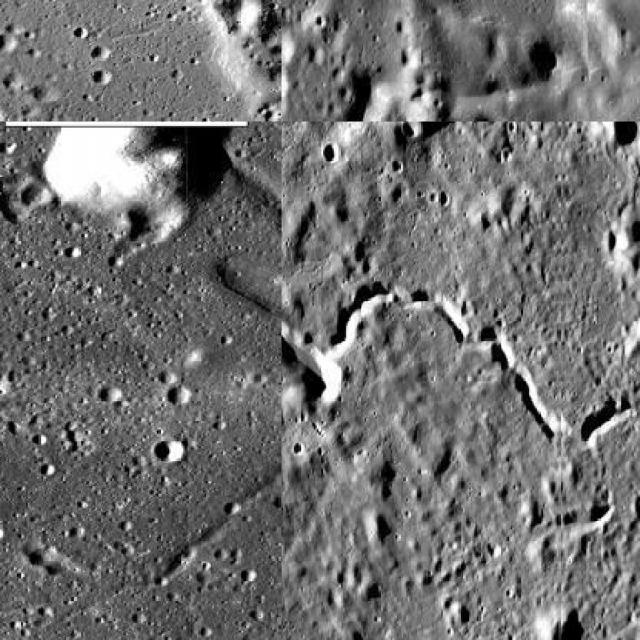rille: (22, 158, 280, 591), (282, 283, 638, 466), (0, 0, 89, 120)
